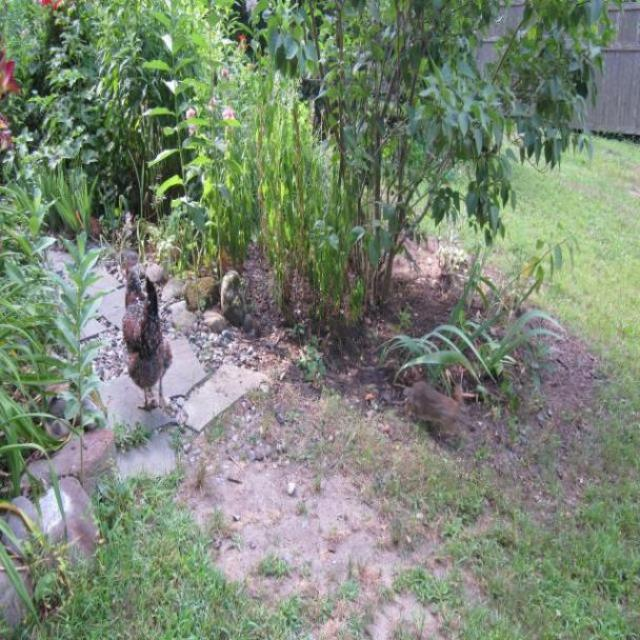Chicken: (118, 262, 173, 413)
